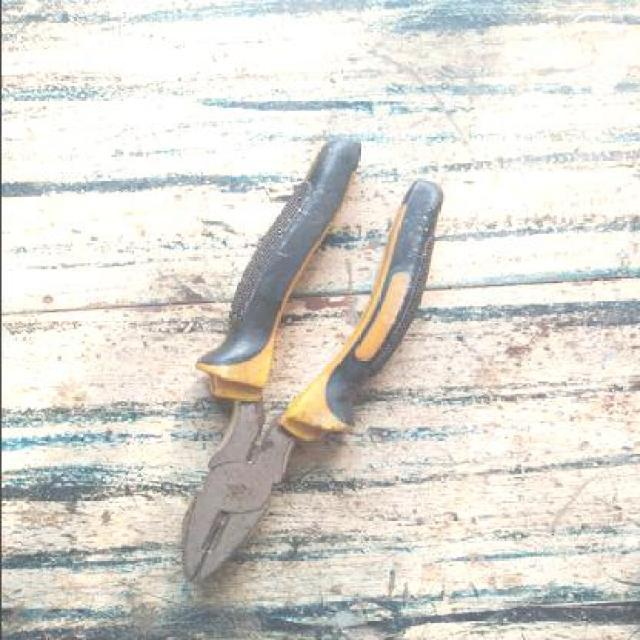pliers: (183, 140, 442, 588)
